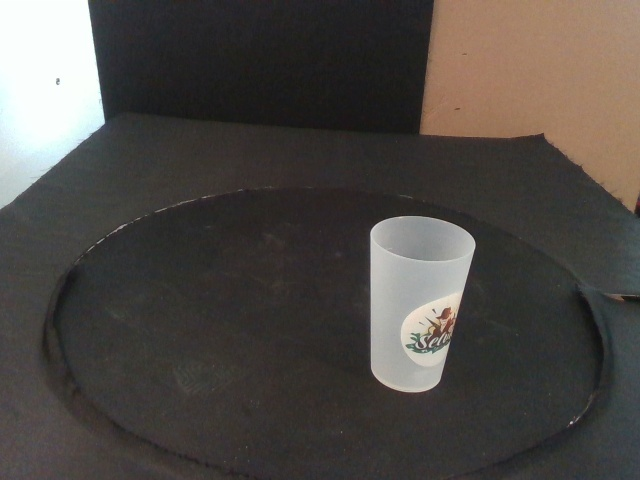glass: (367, 216, 477, 394)
